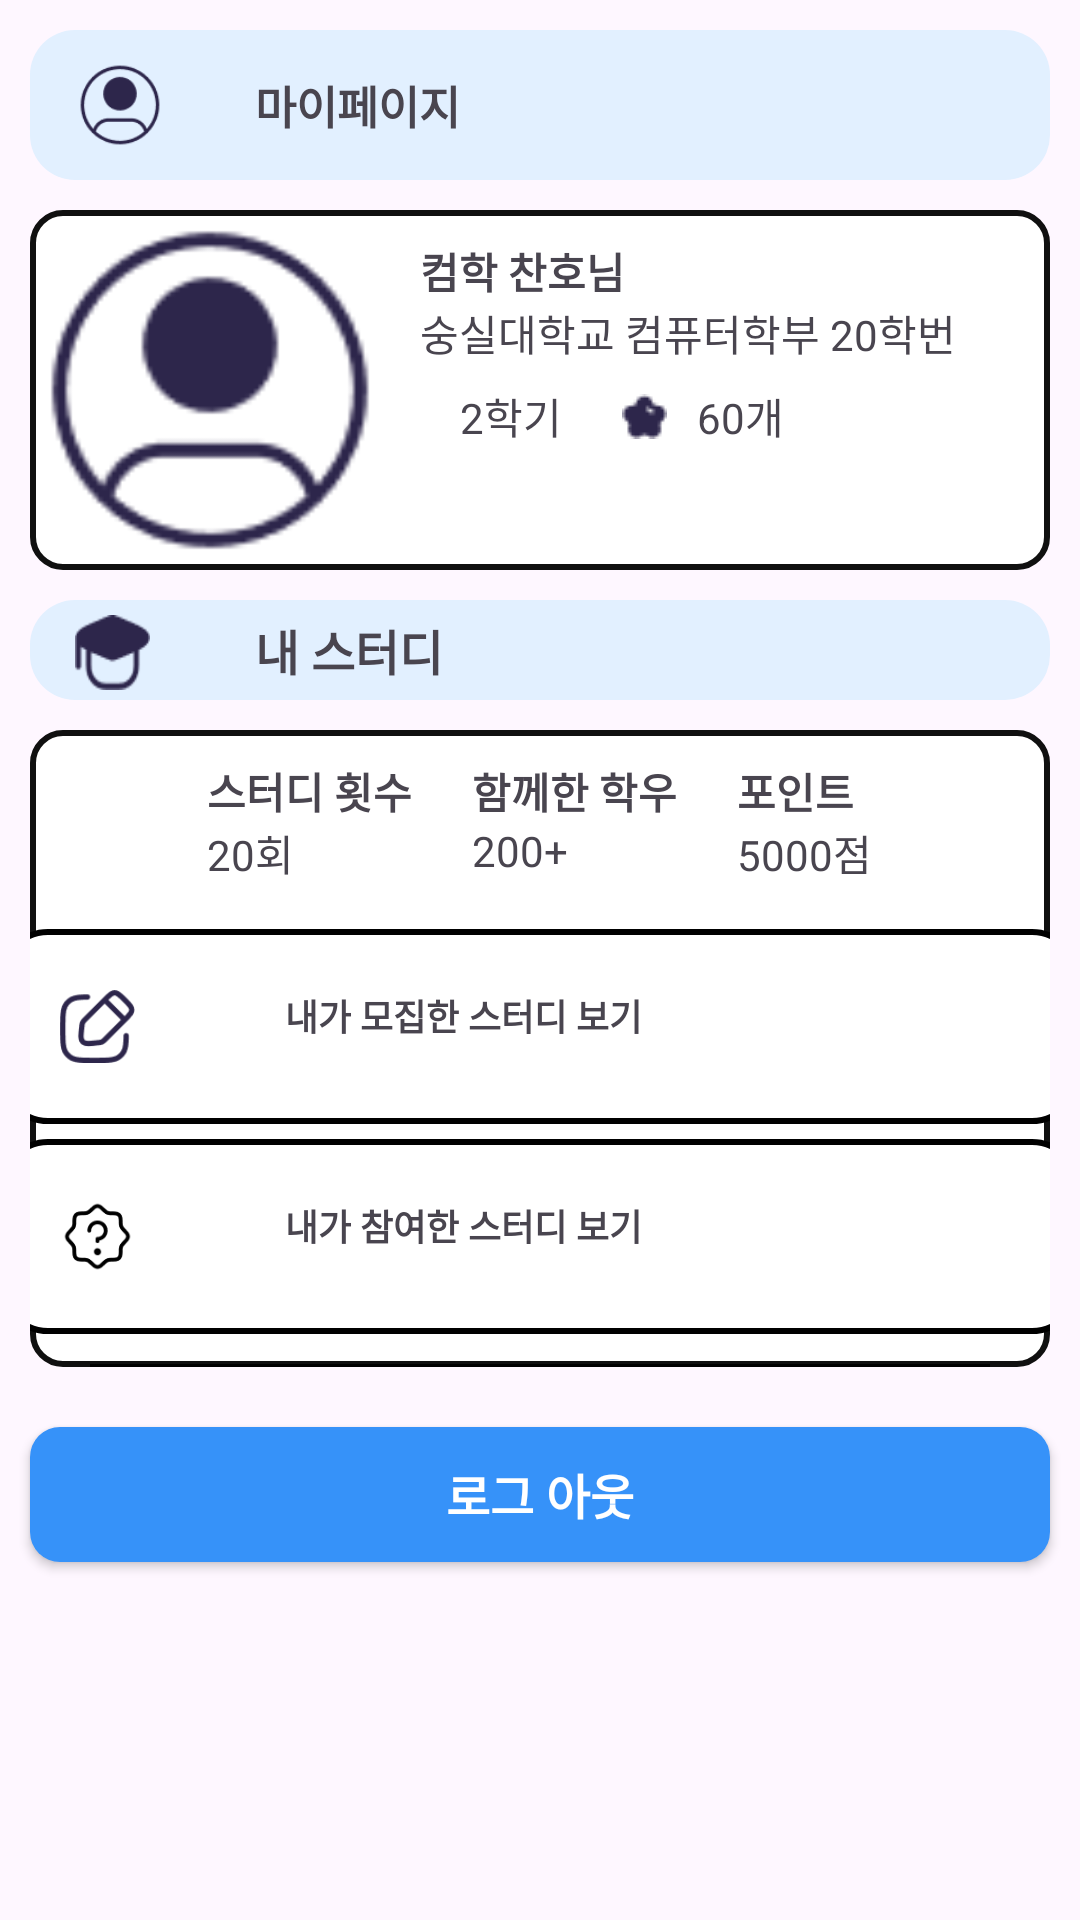

Locate icon controls on the screen. Image size 1080px x 1920px, boxes as (x1, y1, x2, y2).
edit: (60, 990, 135, 1063)
education: (75, 615, 150, 690)
profile: (80, 65, 160, 145), (51, 231, 369, 549)
question: (64, 1203, 131, 1270)
